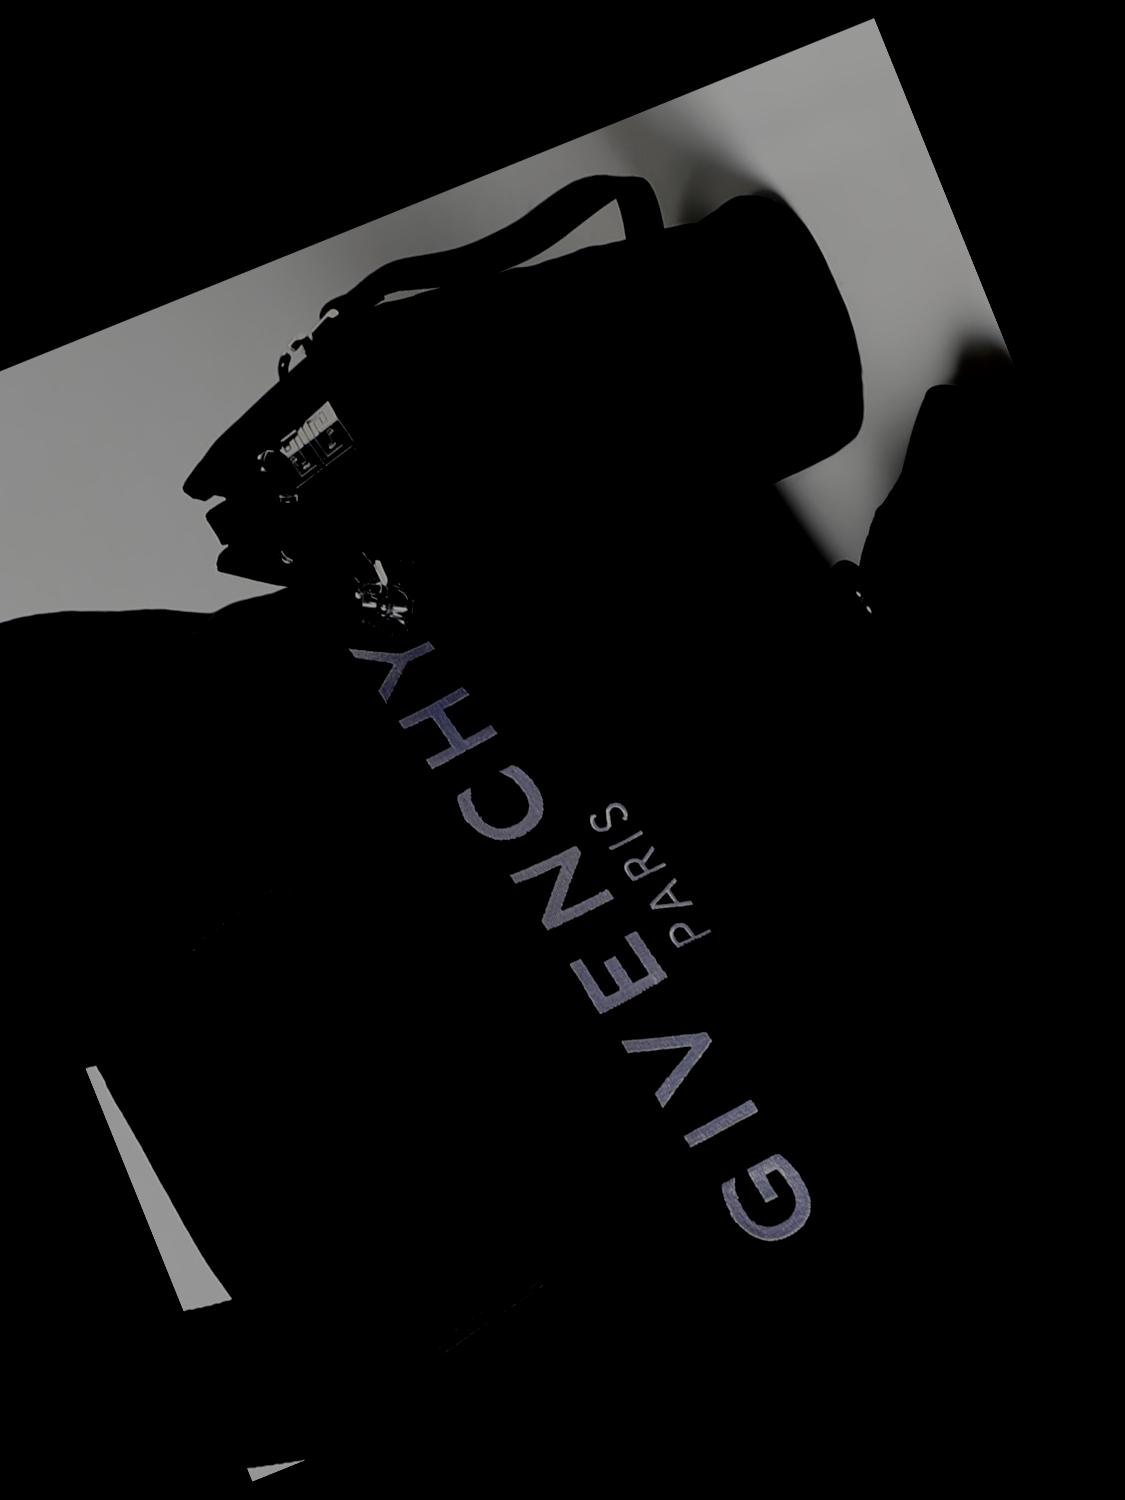GIVENCHY: (299, 515, 896, 1346)
